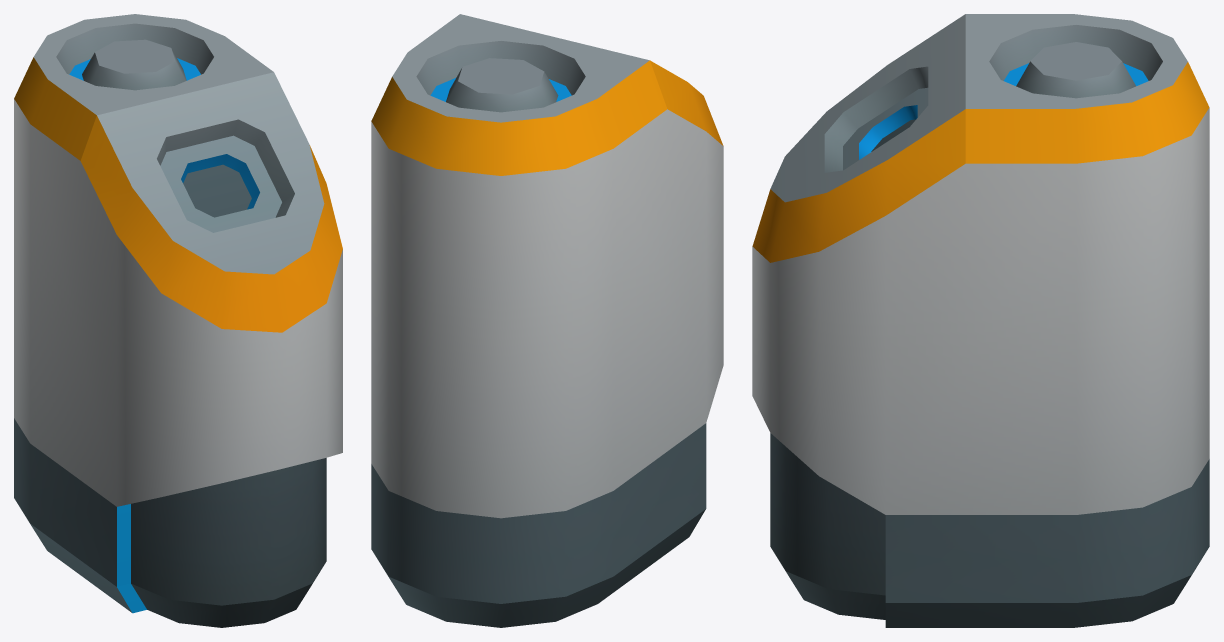
The model's file is Battery_012.fbx.
3 renders of one model, left to right at view 1: azimuth 30°, elevation 25°; view 2: azimuth 150°, elevation 25°; view 3: azimuth 270°, elevation 25°, orthographic. The views are drawn at different scales.
Parts seen in each view (by area): view 1: Battery_012; view 2: Battery_012; view 3: Battery_012.
Part boxes in pixels (box(x1,y1,x2,y2)): Battery_012: box(14, 14, 342, 627); Battery_012: box(371, 14, 723, 627); Battery_012: box(752, 14, 1209, 627).
Bounding box in the file's own units: 35 × 60 × 75.14.
